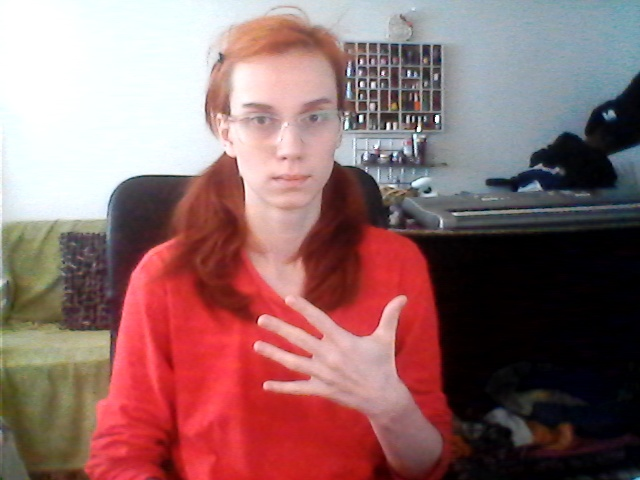pat: (249, 289, 412, 408)
